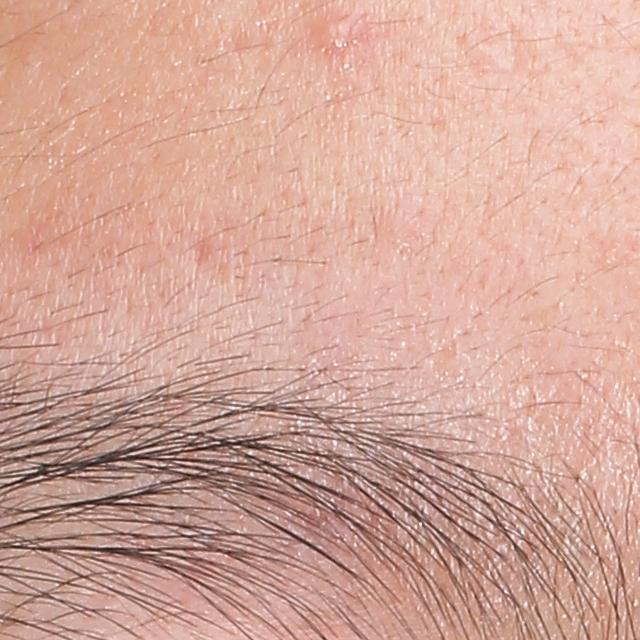papule: (310, 10, 360, 57)
